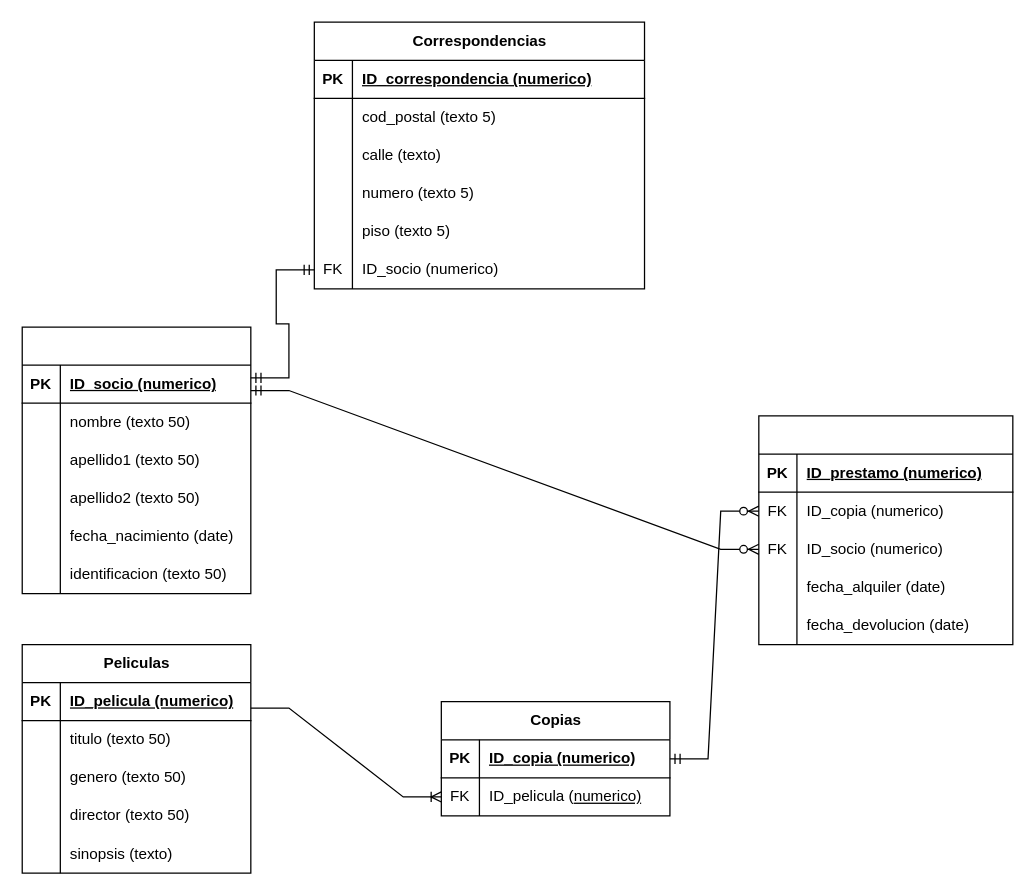
Image size: 1035x895. Some labels were removed from this diagram. Here are the shapes that lost their labels. From the top down, the box of each, then its label:
(21, 326, 251, 594): Socios
(758, 415, 1013, 645): Prestamos
